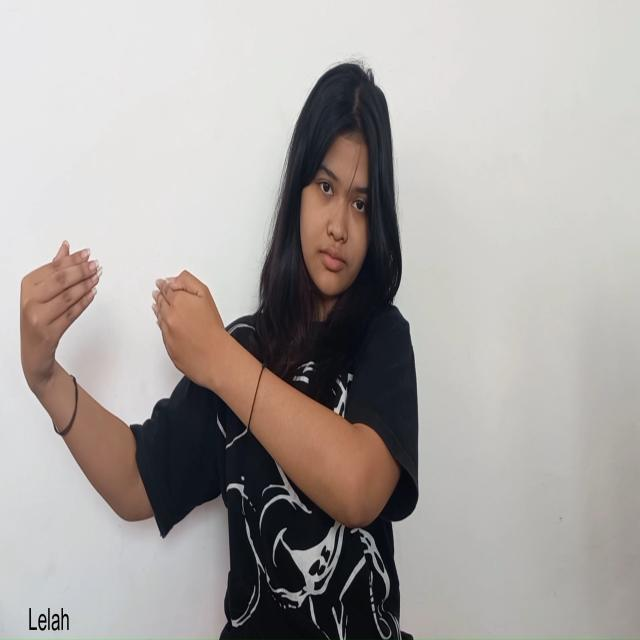Lelah -BISINDO-: (18, 237, 228, 403)
